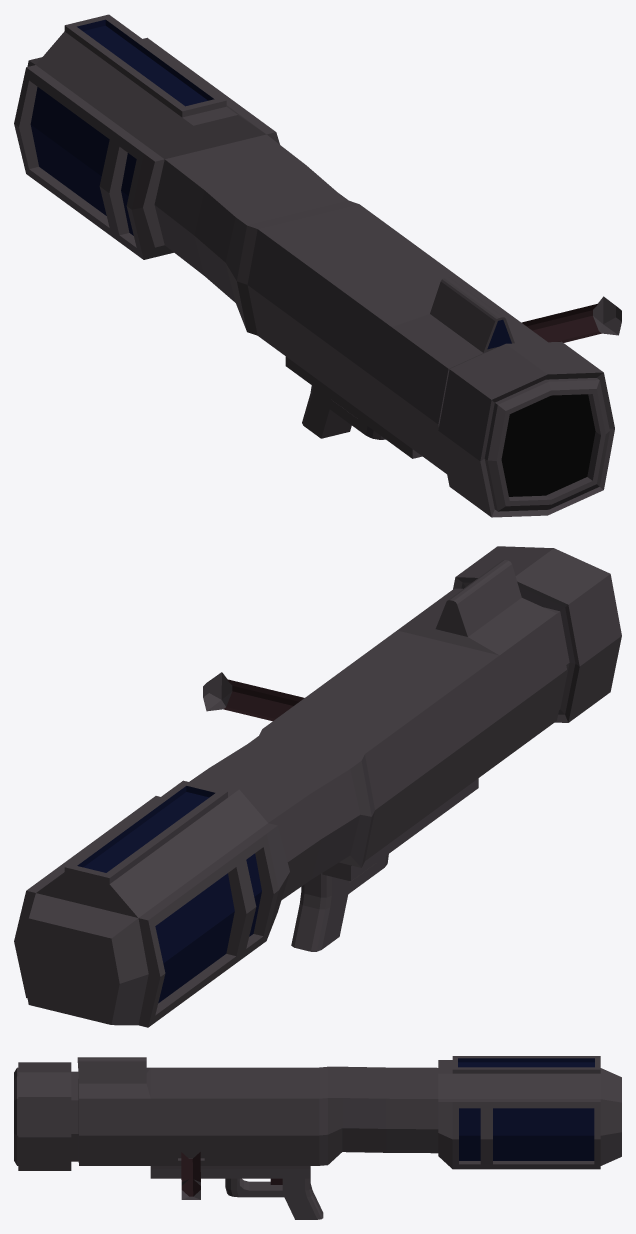
The model's file is bazooka.fbx.
3 views of the same model, one above another, from view 1: azimuth 30°, elevation 25°; view 2: azimuth 150°, elevation 25°; view 3: azimuth 270°, elevation 25° (orthographic). The views are drawn at different scales.
Visible parts, largest first — view 1: bazooka.001, bazooka_handles.001; view 2: bazooka.001, bazooka_handles.001; view 3: bazooka.001, bazooka_handles.001.
Part boxes in pixels (x1,y1,x2,y2): bazooka.001: (14,14,614,517); bazooka_handles.001: (302,296,621,439); bazooka.001: (14,546,621,1027); bazooka_handles.001: (203,672,388,951); bazooka.001: (14,1056,621,1178); bazooka_handles.001: (178,1152,323,1219).
Size of the model in its own units: 170 by 143 by 509.
